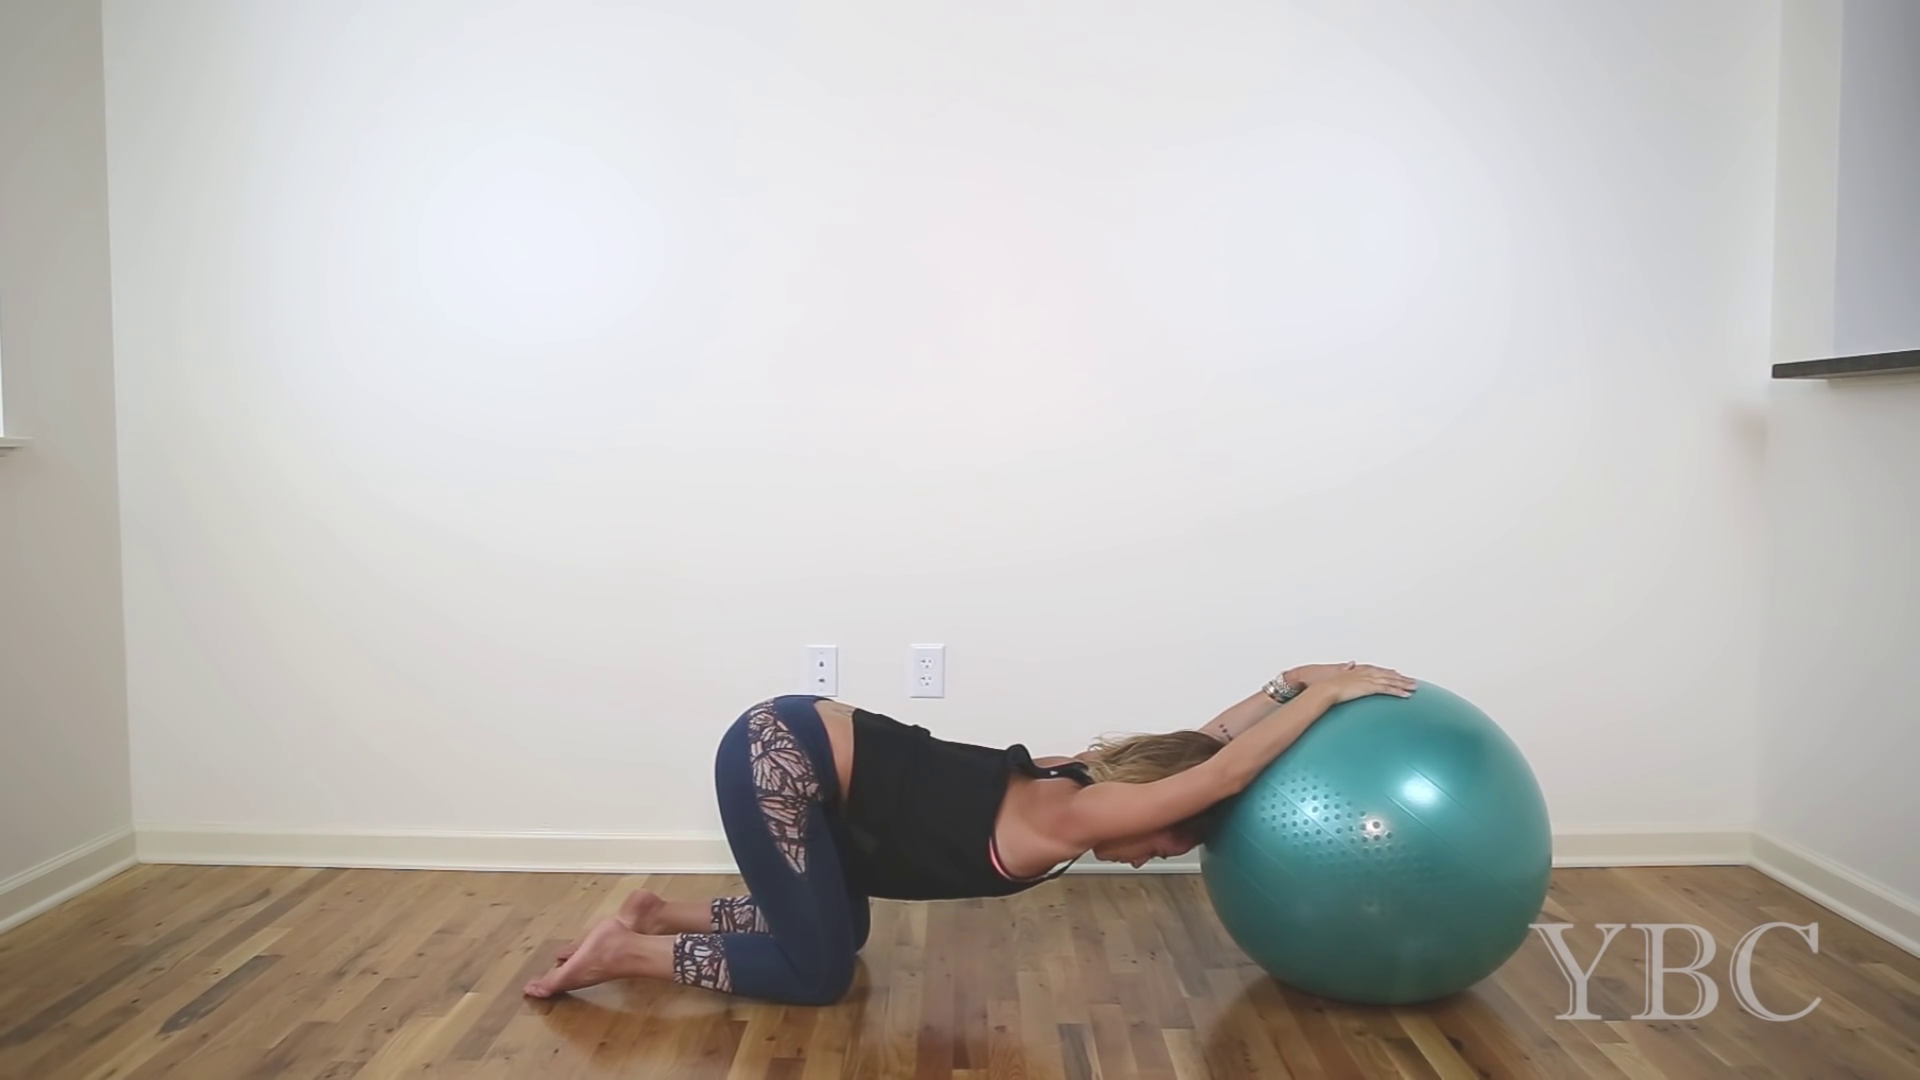yogaball: (1201, 649, 1555, 1014)
